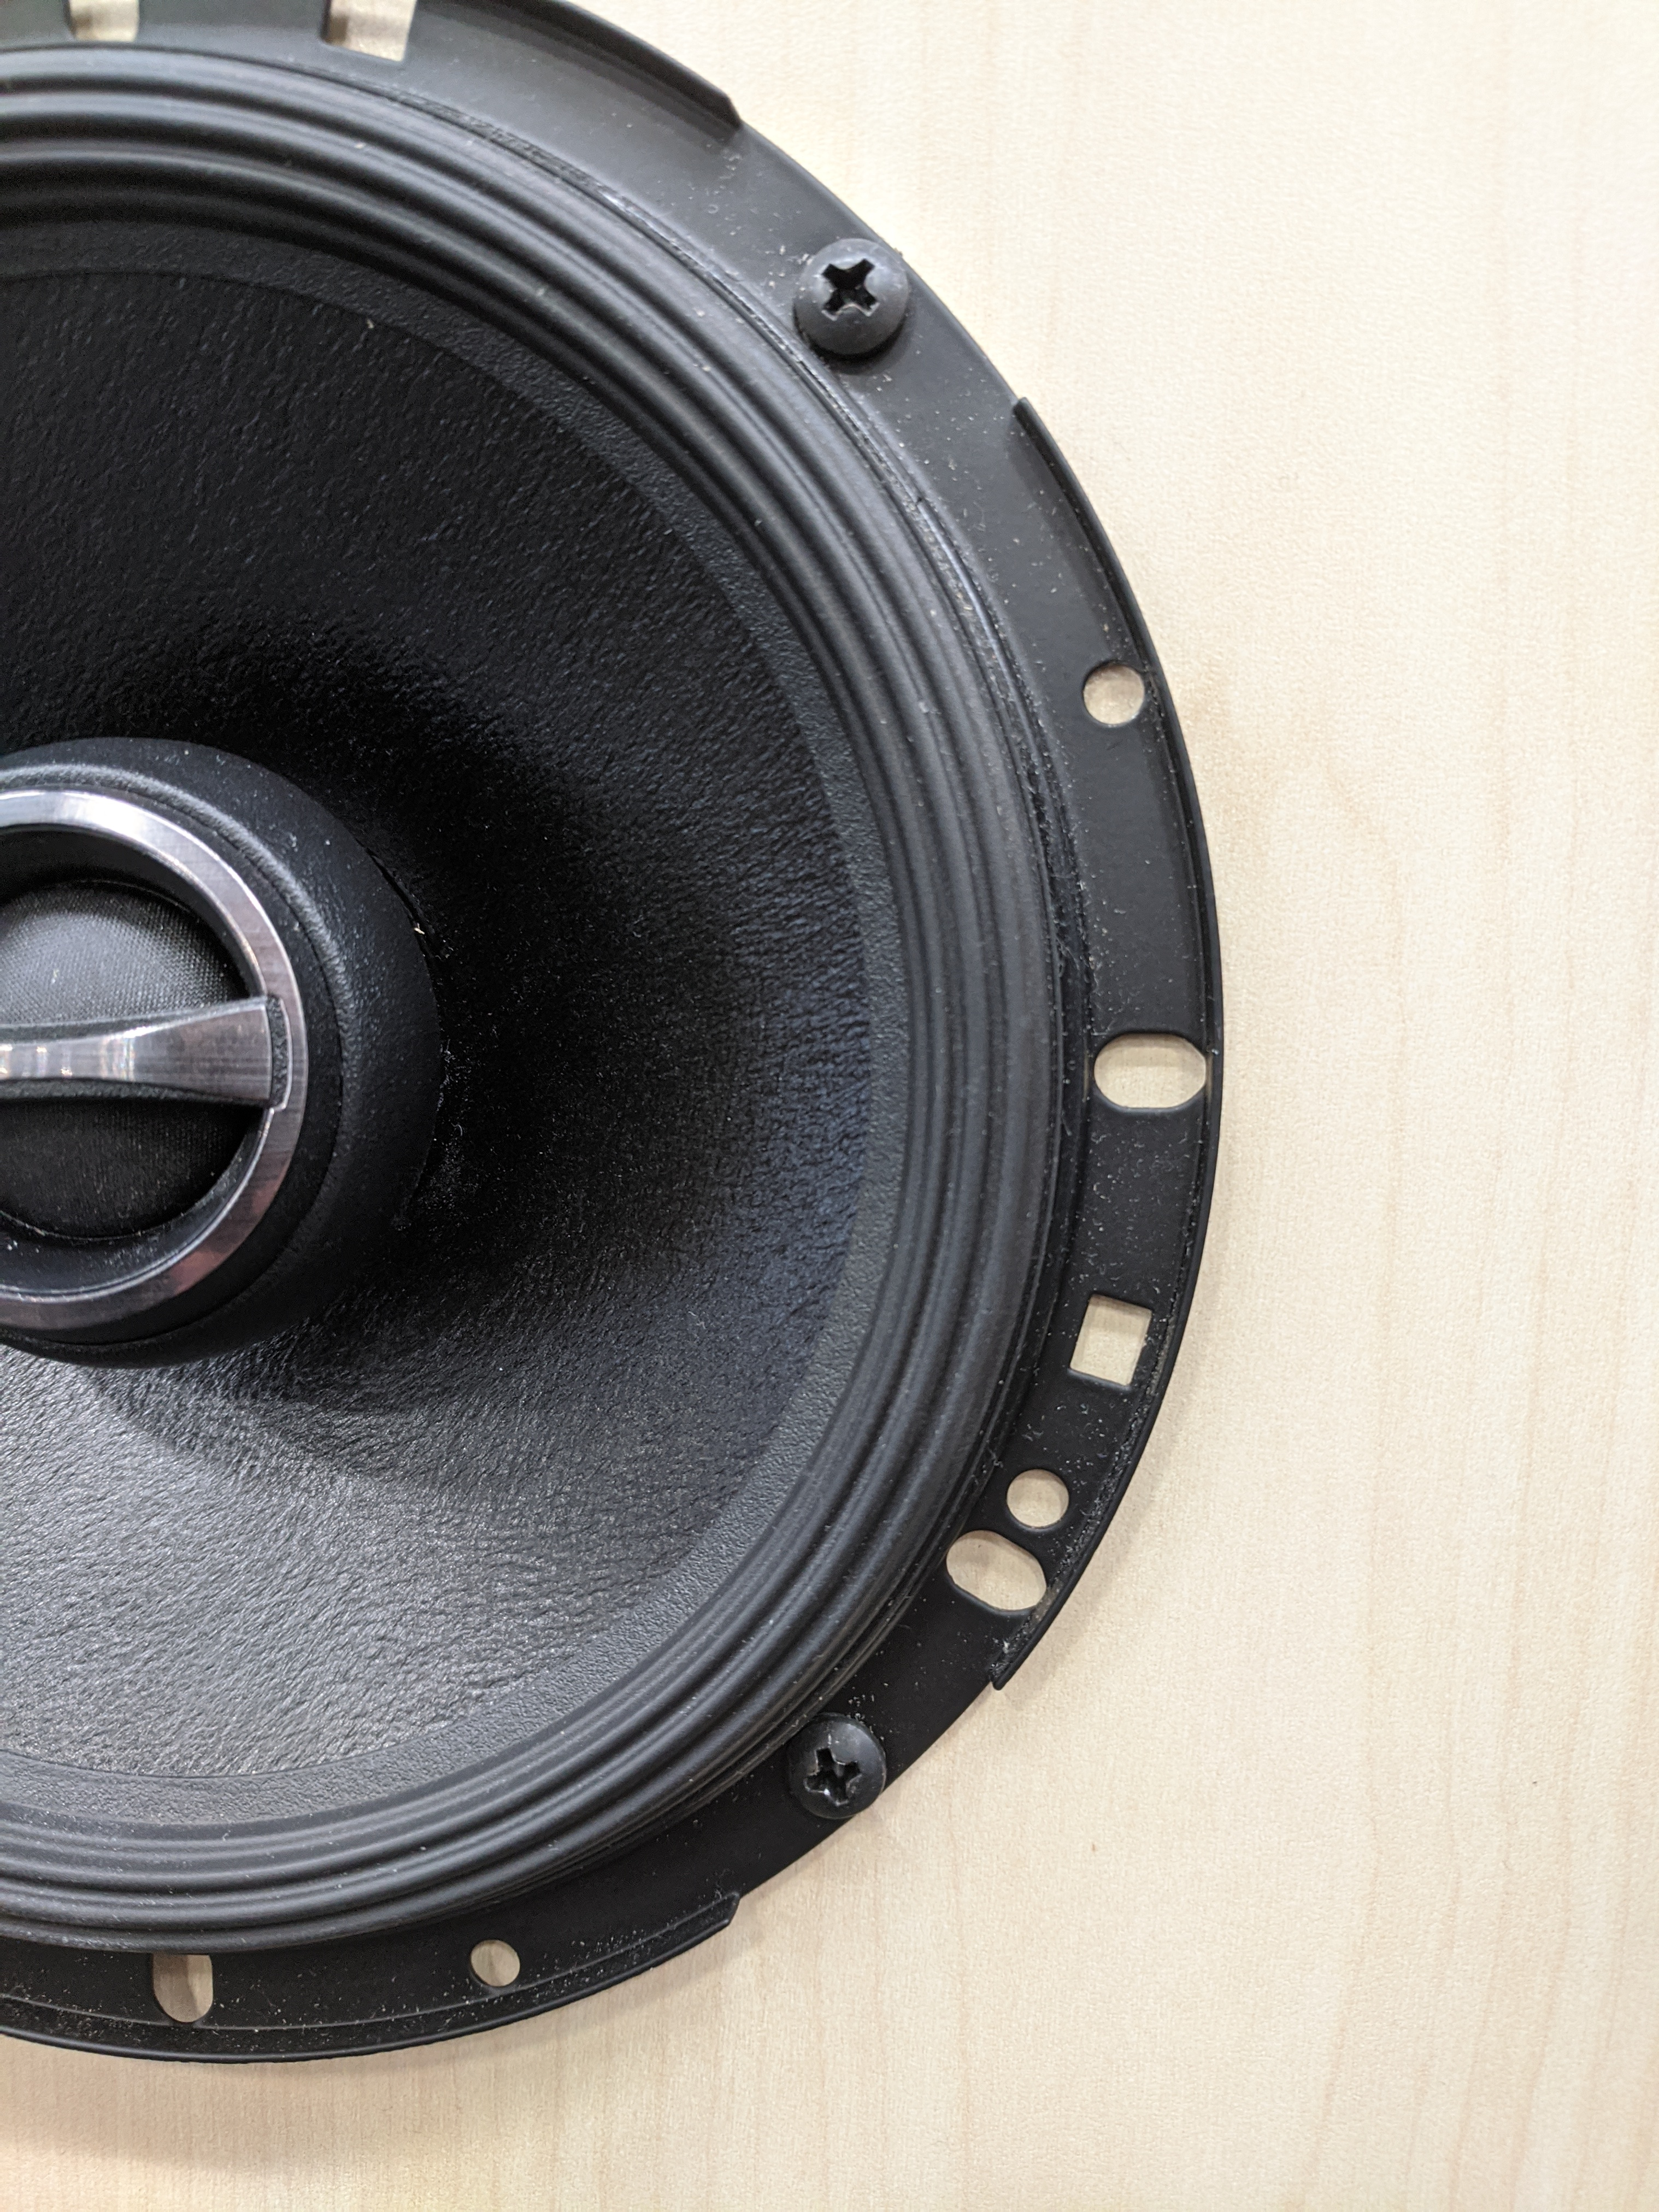cross_recessed_screw: (784, 219, 910, 350), (781, 1716, 887, 1820)
